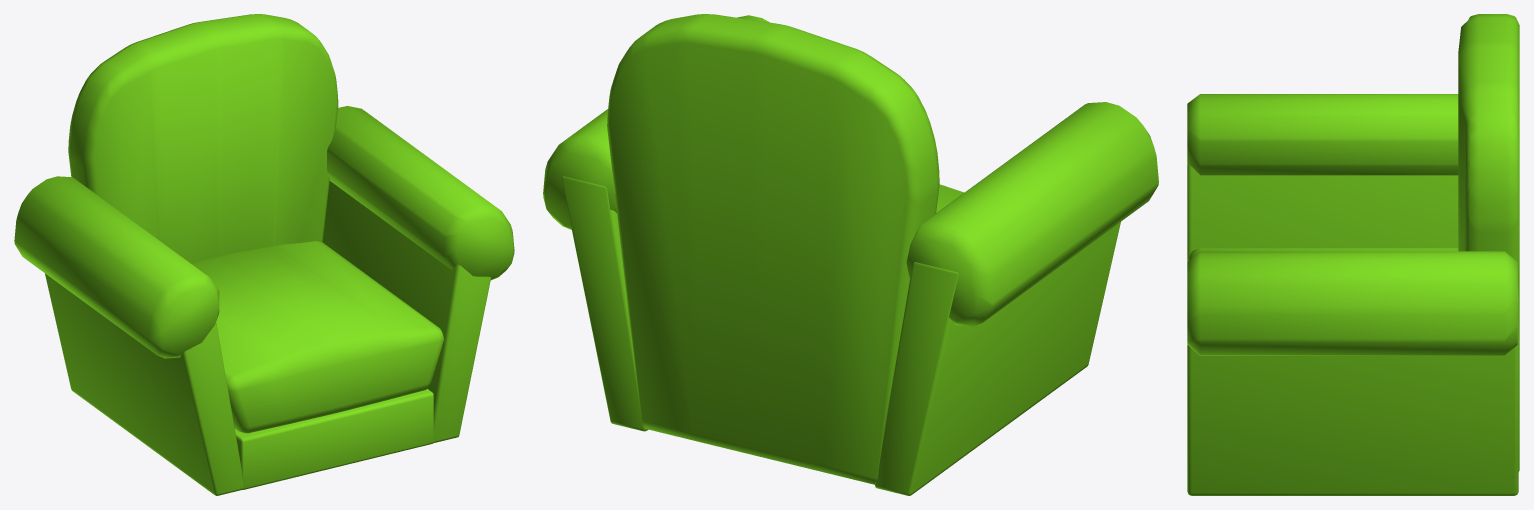
The model's file is Sofa 2.fbx.
3 renders of one model, left to right at view 1: azimuth 30°, elevation 25°; view 2: azimuth 150°, elevation 25°; view 3: azimuth 270°, elevation 25°, orthographic. The views are drawn at different scales.
Visible parts, largest first — view 1: Cube.002; view 2: Cube.002; view 3: Cube.002.
Boxes of the visible parts, x1=… form: Cube.002: x1=14, y1=14, x2=514, y2=495; Cube.002: x1=543, y1=14, x2=1158, y2=495; Cube.002: x1=1187, y1=14, x2=1519, y2=495.
Bounding box in the file's own units: 176 × 157 × 122.
